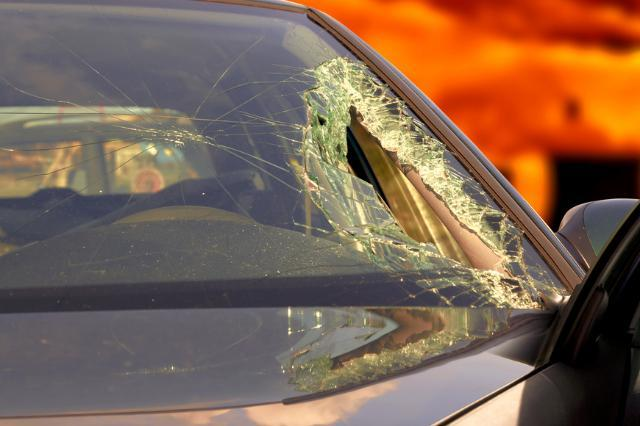Windshield: (58, 4, 558, 370)
